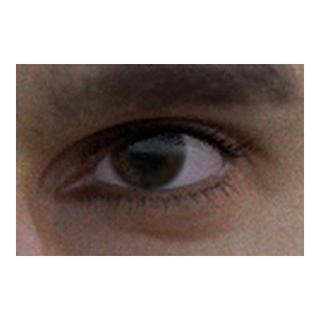pupil: (131, 136, 162, 168)
